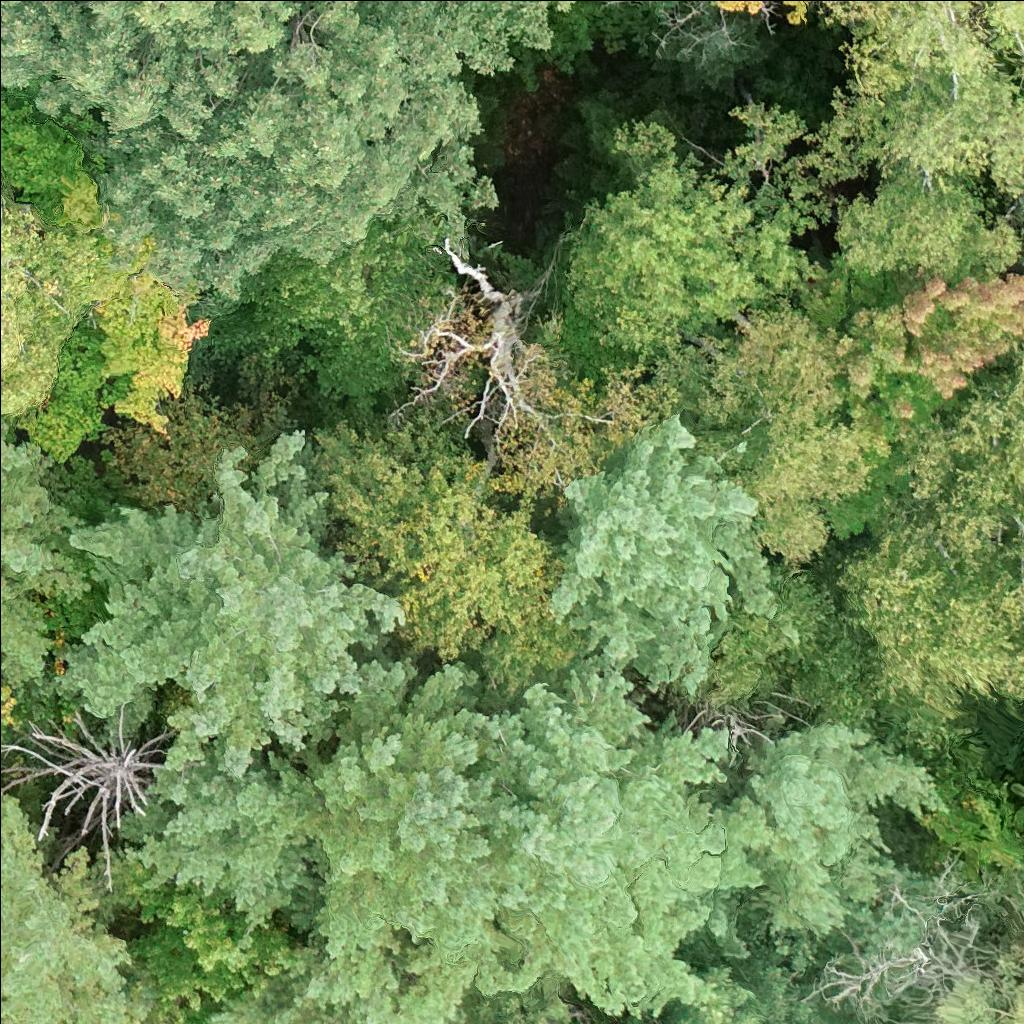crown: (0, 0, 549, 293), (68, 431, 401, 772), (467, 667, 764, 1016), (284, 412, 600, 690), (0, 101, 210, 461), (563, 102, 831, 370), (843, 363, 1023, 749), (308, 665, 527, 957), (646, 300, 892, 558), (555, 416, 778, 692), (826, 269, 1023, 535), (706, 726, 935, 954), (806, 0, 1023, 200), (233, 215, 470, 395), (126, 728, 329, 928), (481, 302, 665, 503), (0, 704, 174, 889), (0, 797, 140, 1023), (804, 856, 989, 1015), (120, 854, 309, 999), (104, 368, 268, 520), (0, 416, 88, 694), (0, 199, 102, 421), (836, 163, 1020, 279), (284, 922, 482, 1023), (393, 291, 525, 424), (784, 248, 935, 334), (208, 930, 337, 1023), (675, 968, 859, 1023), (441, 971, 576, 1023), (942, 952, 1023, 1023), (693, 710, 757, 750), (0, 679, 21, 738), (705, 0, 768, 13), (783, 0, 813, 24), (541, 0, 550, 3)
